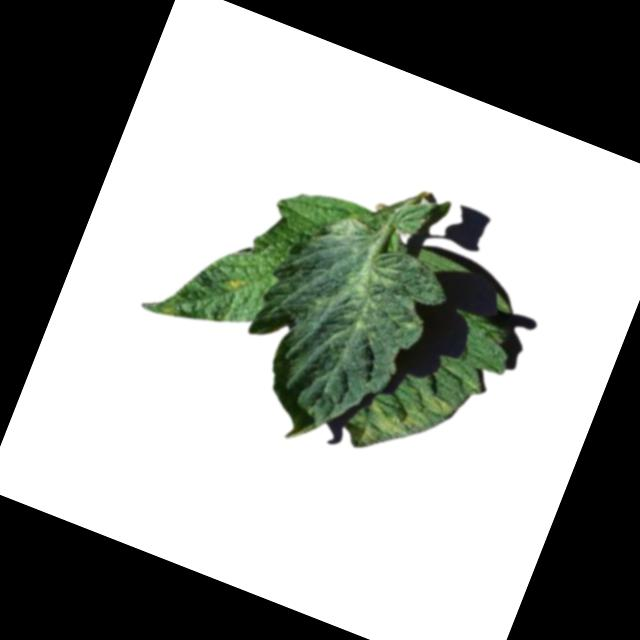Leaf_Mold: (352, 392, 434, 468), (314, 207, 368, 255), (418, 389, 462, 423), (217, 269, 251, 298), (157, 300, 182, 321)
